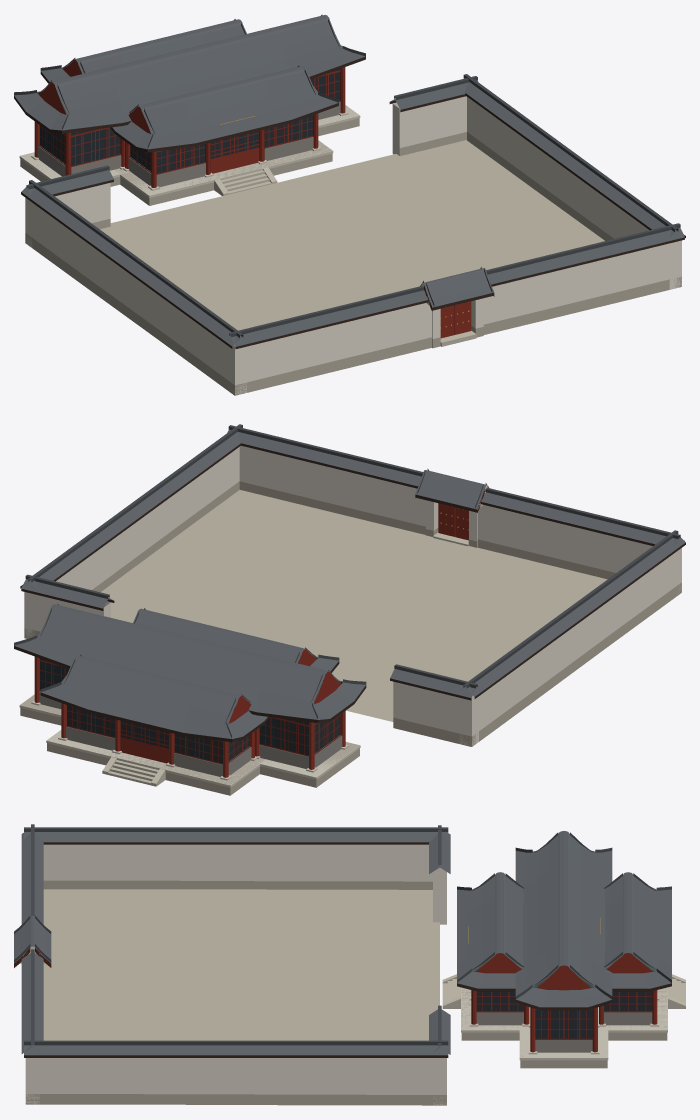
3 views of the same model, one above another, from view 1: azimuth 30°, elevation 25°; view 2: azimuth 150°, elevation 25°; view 3: azimuth 270°, elevation 25° (orthographic).
Visible parts, largest first — view 1: YM02-01 勤政殿 Qinzheng Dian; view 2: YM02-01 勤政殿 Qinzheng Dian; view 3: YM02-01 勤政殿 Qinzheng Dian.
Boxes of the visible parts, x1=… form: YM02-01 勤政殿 Qinzheng Dian: x1=14, y1=14, x2=685, y2=395; YM02-01 勤政殿 Qinzheng Dian: x1=14, y1=424, x2=685, y2=795; YM02-01 勤政殿 Qinzheng Dian: x1=14, y1=824, x2=685, y2=1105.
Bounding box in the file's own units: 33.74 × 6.93 × 43.09.
